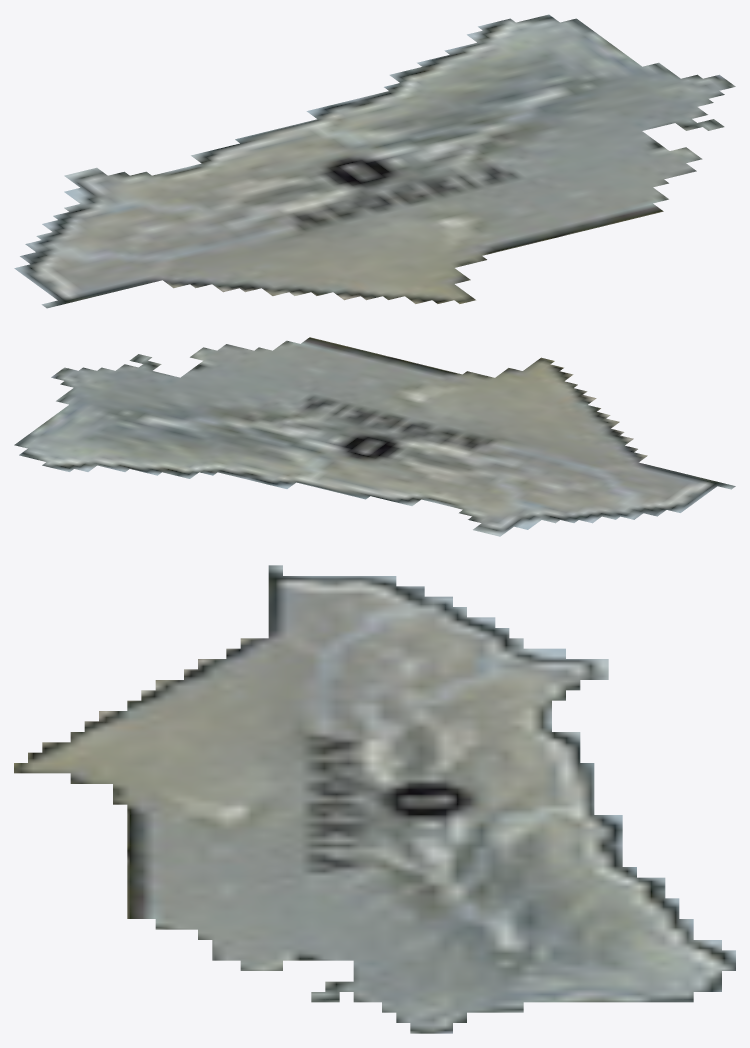
The model's file is algeria.gltf.
3 views of the same model, one above another, from view 1: azimuth 30°, elevation 25°; view 2: azimuth 150°, elevation 25°; view 3: azimuth 270°, elevation 25° (orthographic). The views are drawn at different scales.
Parts seen in each view (by area): view 1: Plane; view 2: Plane; view 3: Plane.
Part boxes in pixels (x1,y1,x2,y2): Plane: (14,14,735,308); Plane: (14,337,735,536); Plane: (14,565,735,1033).
Bounding box in the file's own units: 0.4443 × 0 × 0.2896.
1 material, 1 textured.
